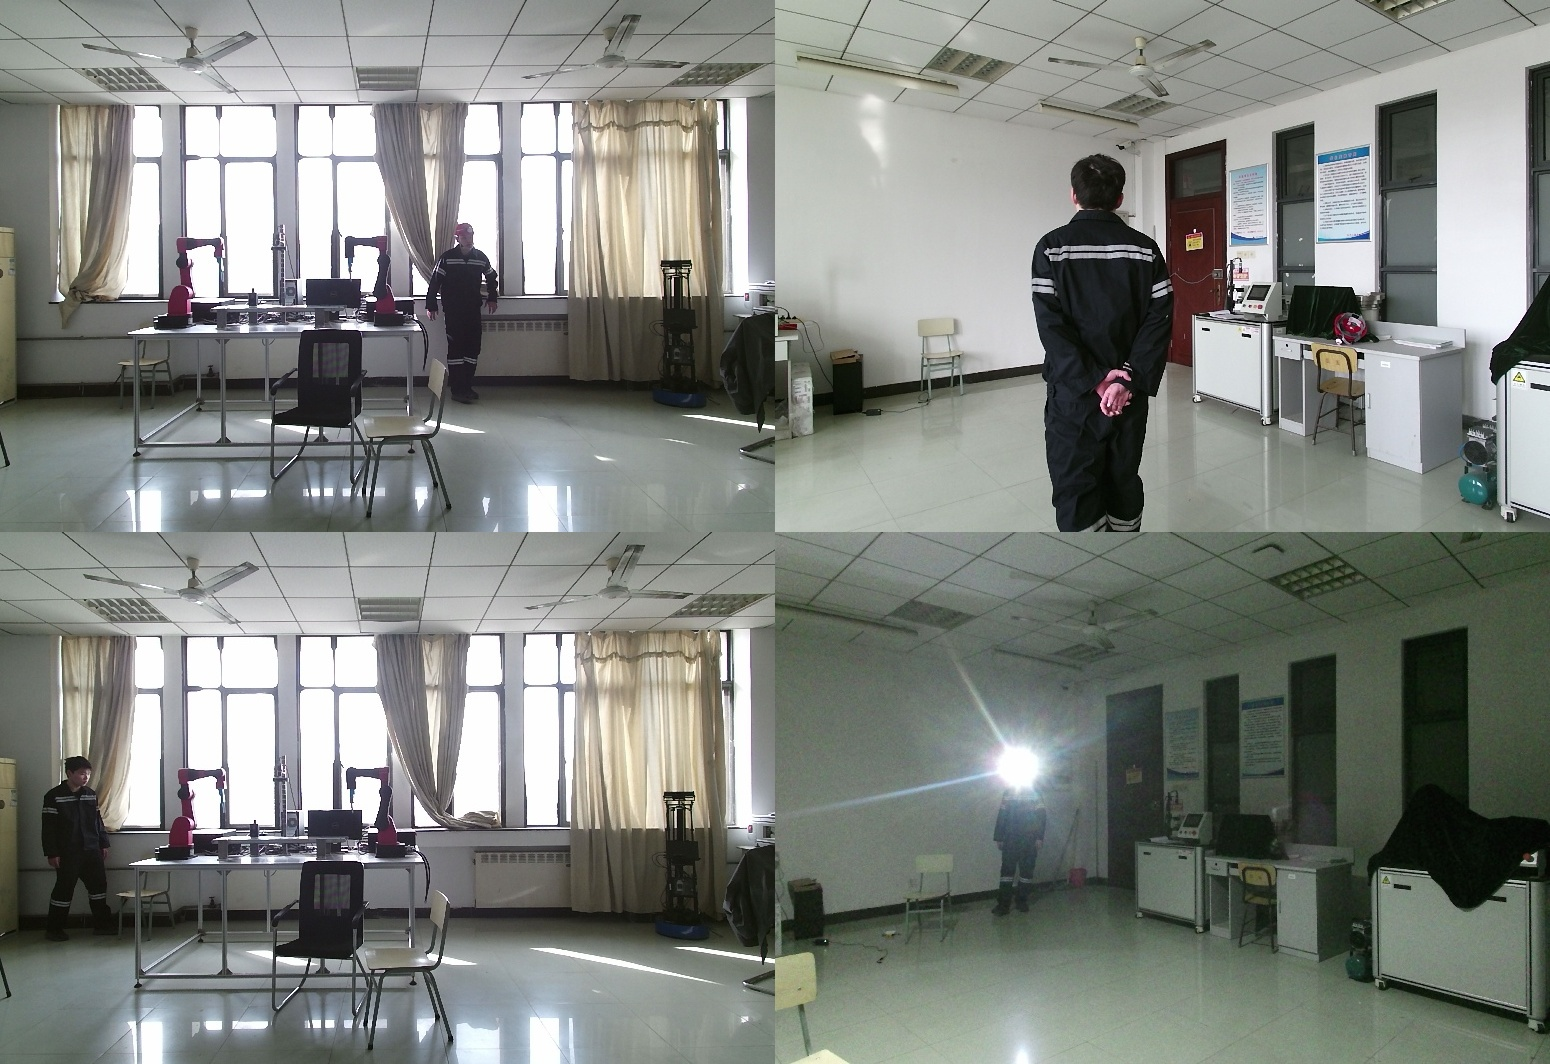person: (1022, 157, 1190, 532), (35, 758, 118, 942), (427, 225, 502, 413), (994, 763, 1045, 917)
